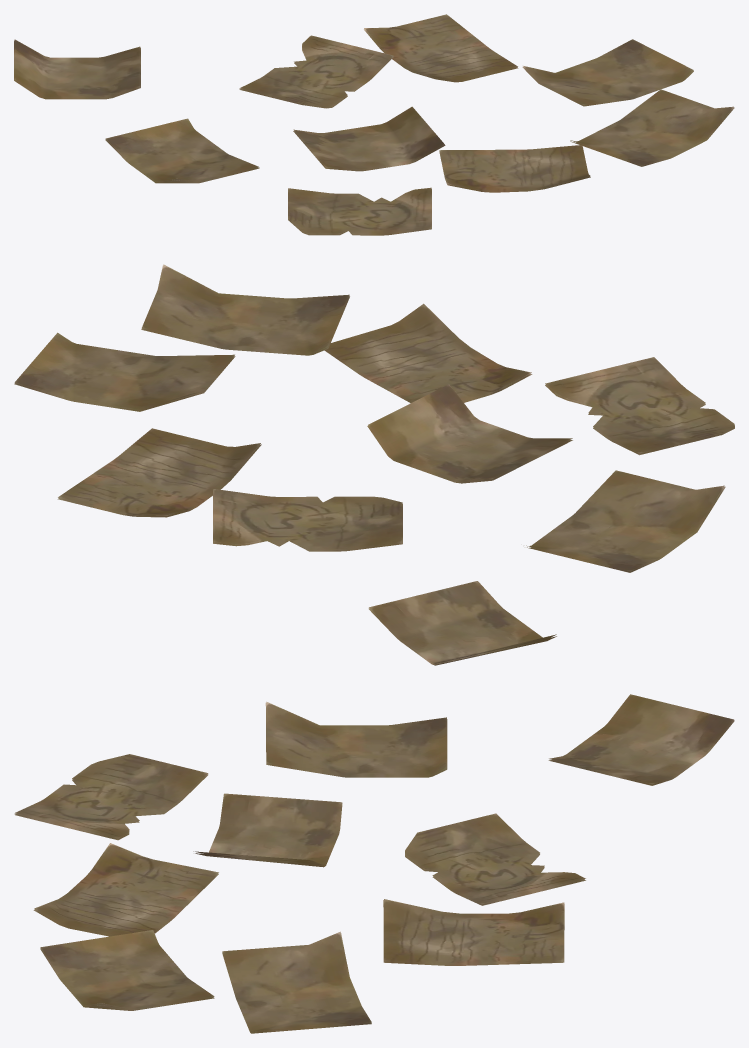
3 views of the same model, one above another, from view 1: azimuth 30°, elevation 25°; view 2: azimuth 150°, elevation 25°; view 3: azimuth 270°, elevation 25° (orthographic). The views are drawn at different scales.
Parts seen in each view (by area): view 1: SM_DR_PaperStack_02_LOD0; view 2: SM_DR_PaperStack_02_LOD0; view 3: SM_DR_PaperStack_02_LOD0.
Part boxes in pixels (x1=…): SM_DR_PaperStack_02_LOD0: x1=14, y1=14, x2=734, y2=235; SM_DR_PaperStack_02_LOD0: x1=14, y1=264, x2=734, y2=665; SM_DR_PaperStack_02_LOD0: x1=14, y1=694, x2=734, y2=1033.
Size of the model in its own units: 1.63 by 0.062 by 1.53.
1 material, 1 textured.
